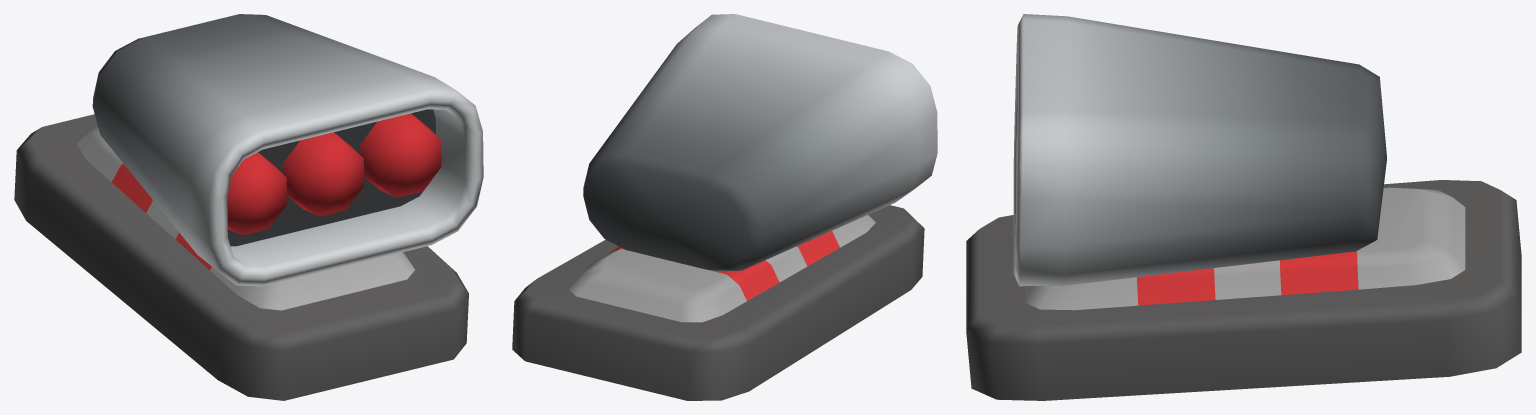
The model's file is Car_08_Engine.fbx.
The picture shows the model from 3 angles, left to right: view 1: azimuth 30°, elevation 25°; view 2: azimuth 150°, elevation 25°; view 3: azimuth 270°, elevation 25°; orthographic projection. The views are drawn at different scales.
Parts seen in each view (by area): view 1: Car_08_Engine; view 2: Car_08_Engine; view 3: Car_08_Engine.
Part boxes in pixels (x1,y1,x2,y2): Car_08_Engine: [14, 14, 483, 400]; Car_08_Engine: [512, 14, 937, 400]; Car_08_Engine: [966, 14, 1521, 400].
Size of the model in its own units: 42.35 by 67.69 by 37.35.
